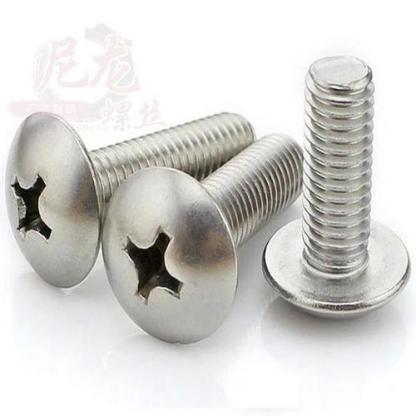FOD: (2, 98, 257, 290), (97, 134, 306, 346), (258, 54, 415, 320)
